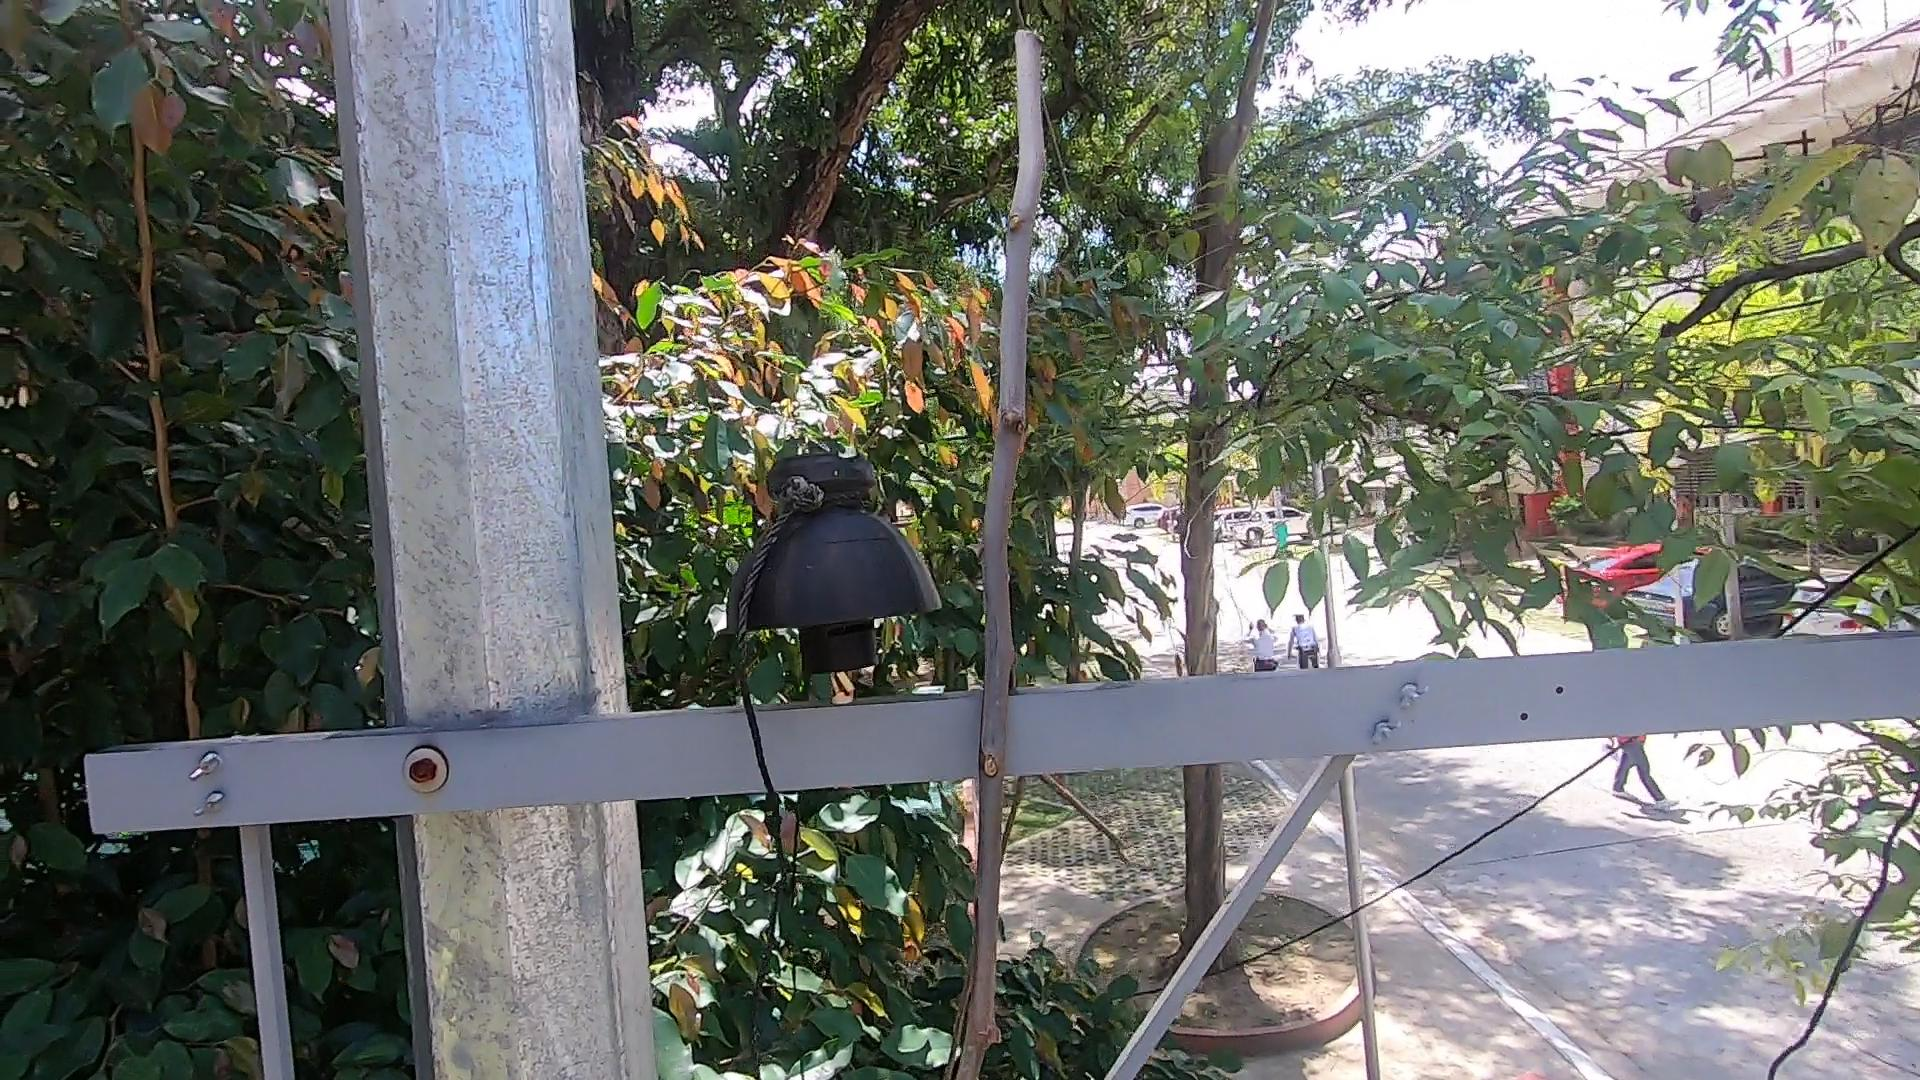tree branch: (905, 5, 1067, 1073)
